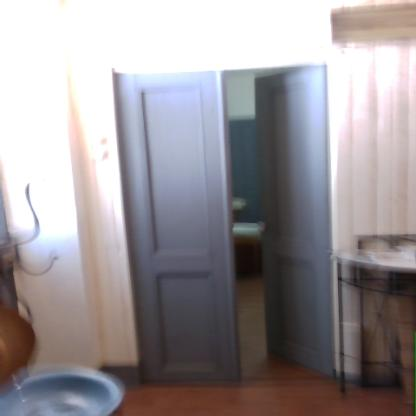semi: (121, 51, 343, 394)
